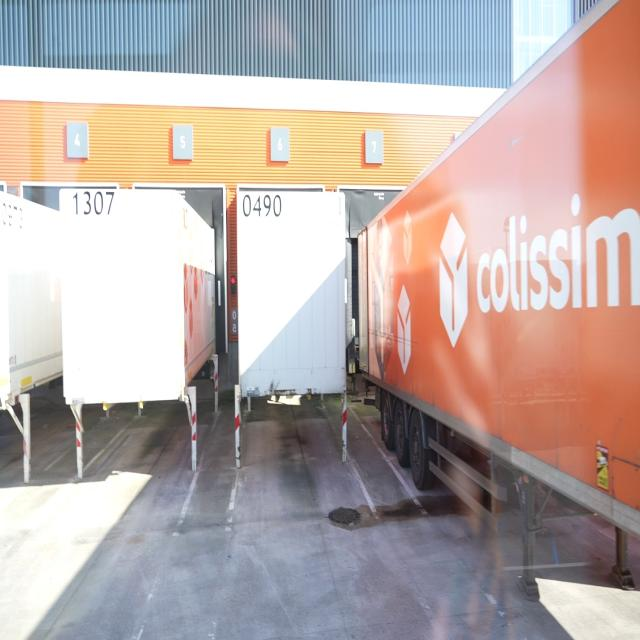Code: (72, 187, 116, 219), (241, 190, 285, 221)
